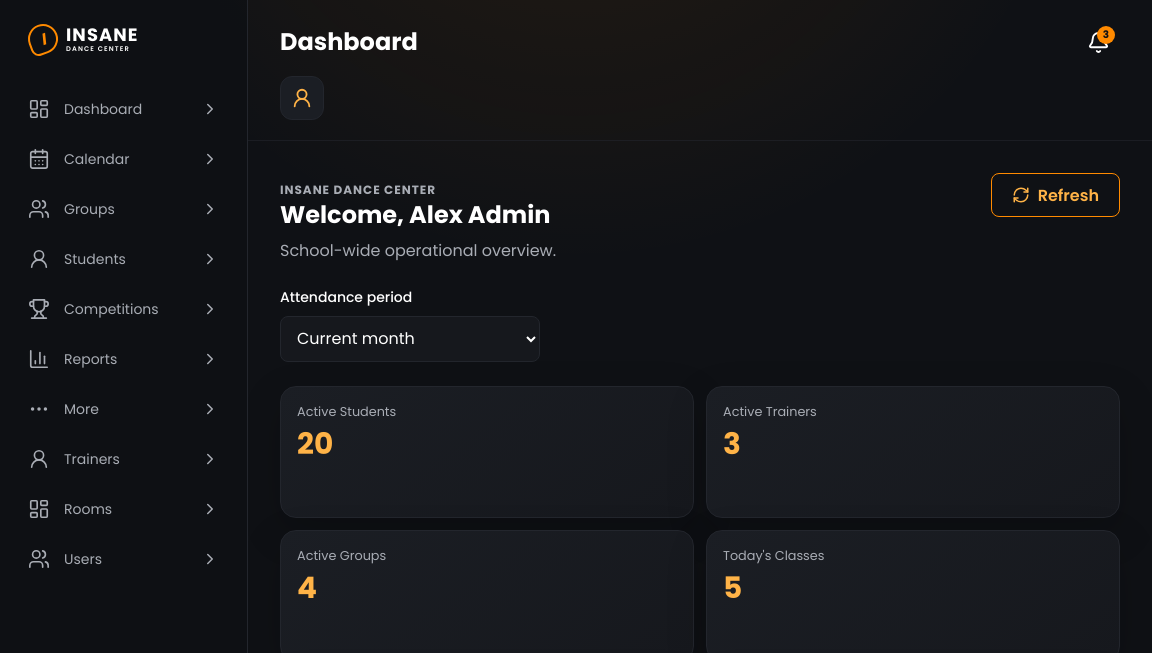
Scenario: DashboardPage › does not fetch a custom range until valid dates are submitted
Expected: the text "Active Students" is shown, [297, 403, 396, 420]
Select "Custom range" in the dropdown labelled "Attendance period". click: [410, 339]
box: [280, 316, 540, 362]
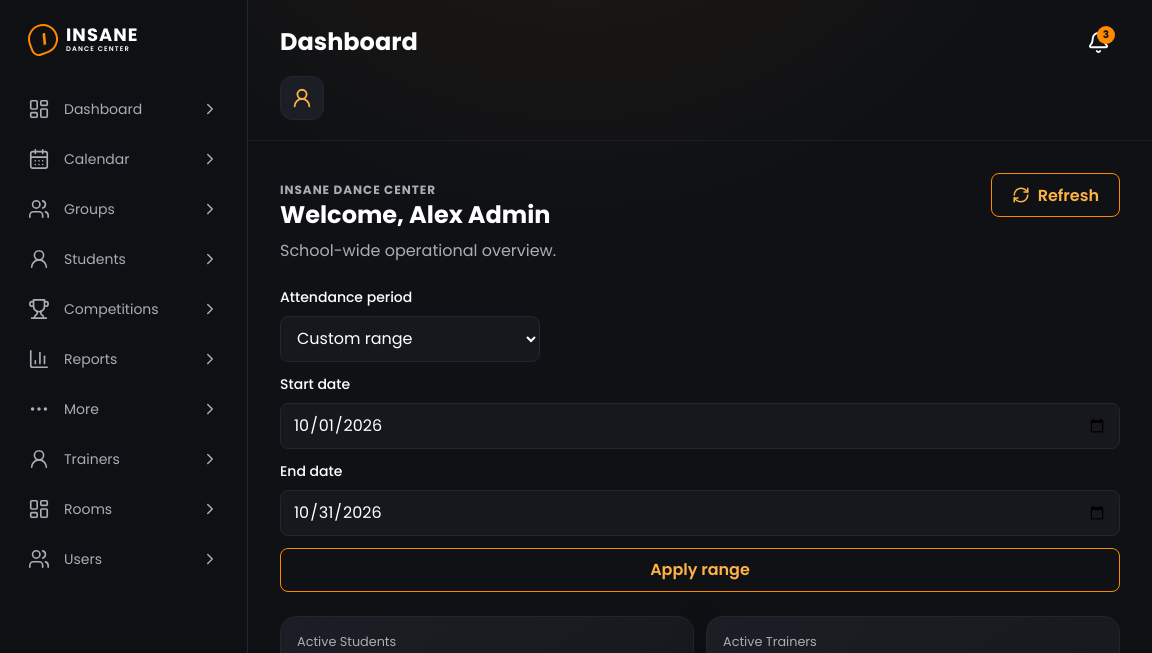
Type "2026-10-31" into the date field labelled "Start date". click: [700, 426]
box: [280, 403, 1120, 449]
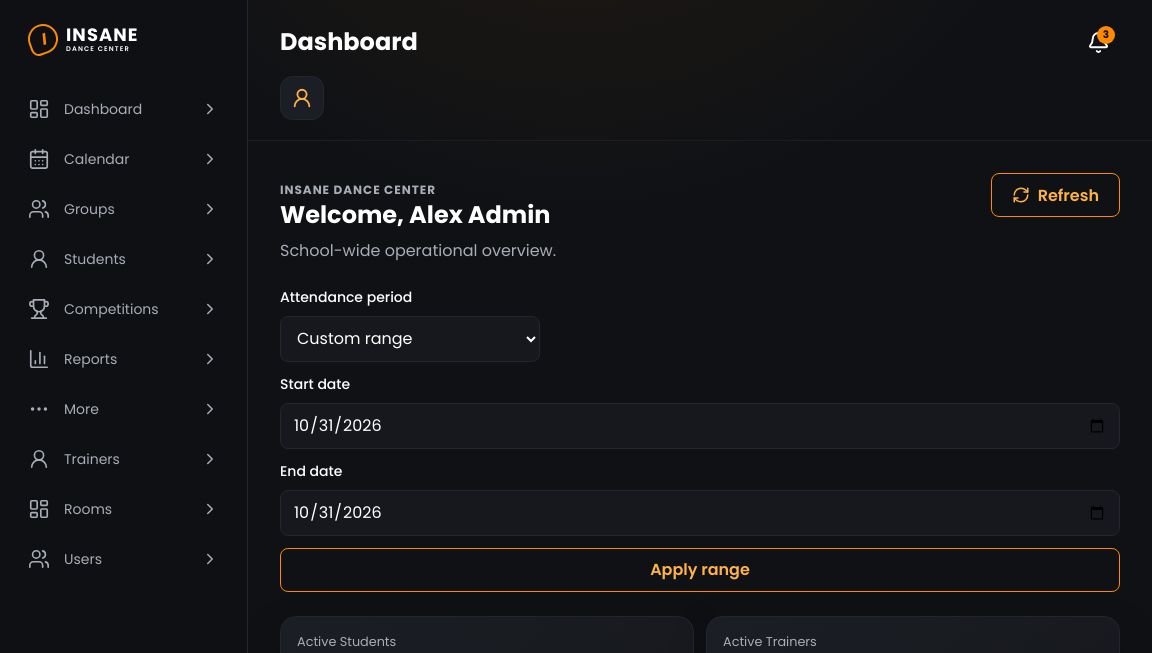
Type "2026-10-01" into the date field labelled "End date". click: [700, 513]
box: [280, 490, 1120, 536]
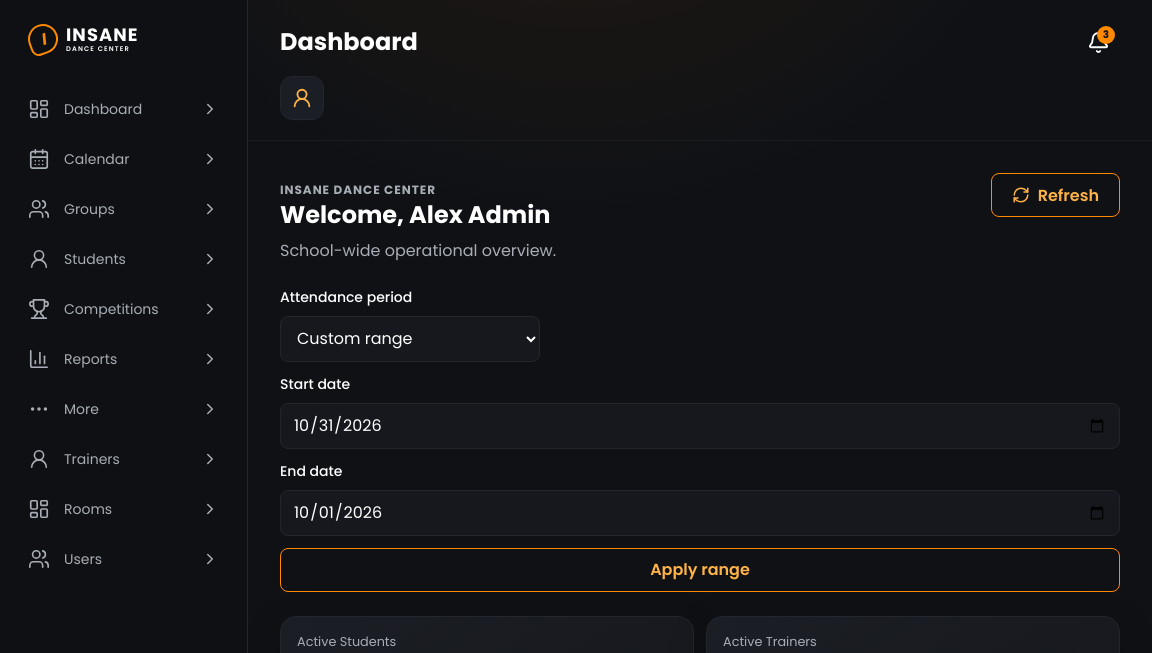
Click the button "Apply range". click: [700, 570]
box: [280, 548, 1120, 592]
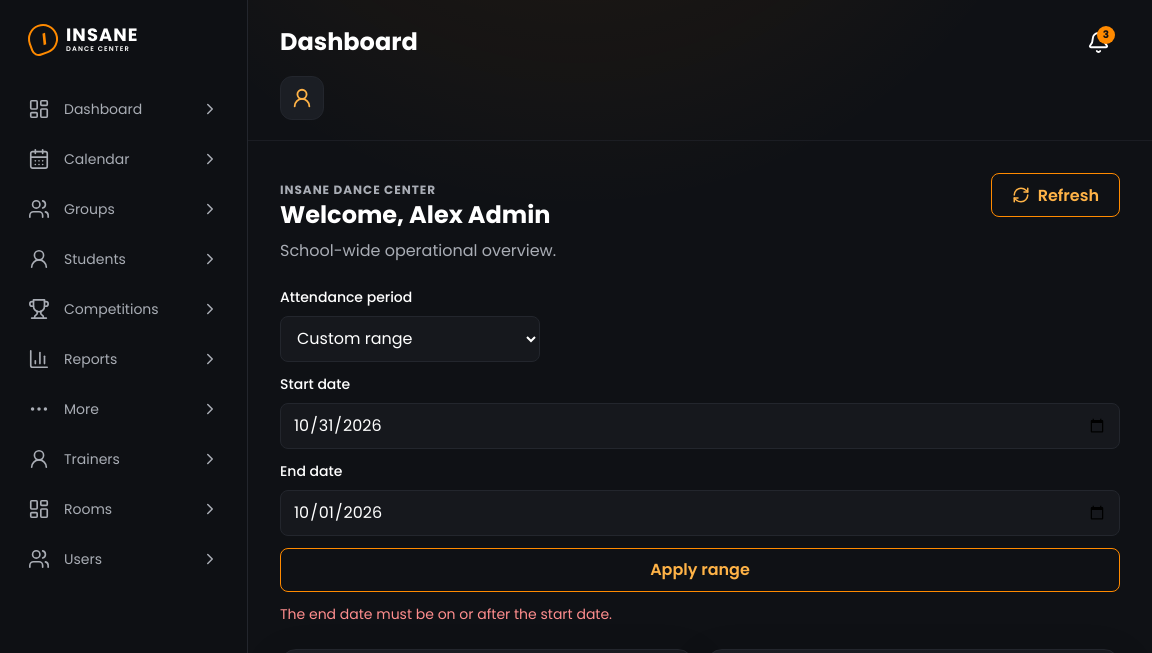
Result: the message reads "The end date must be on or after the start date." at [280, 604, 612, 624]
